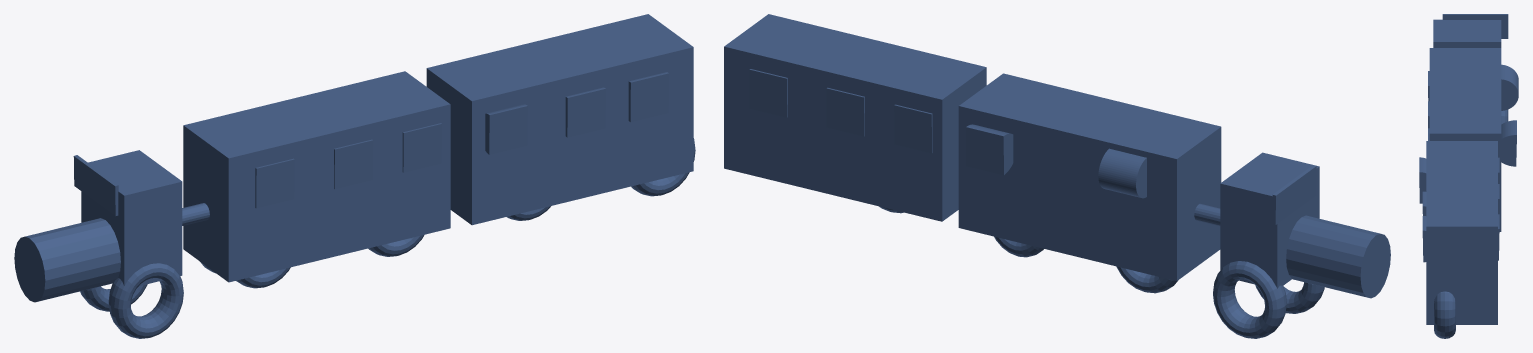
File: Powerful Jaiks.glb
3 views of the same model, side by side, from view 1: azimuth 30°, elevation 25°; view 2: azimuth 150°, elevation 25°; view 3: azimuth 270°, elevation 25° (orthographic). The views are drawn at different scales.
Visible parts, largest first — view 1: Mesh_Mesh_head_geo.001_lambert2SG.001; view 2: Mesh_Mesh_head_geo.001_lambert2SG.001; view 3: Mesh_Mesh_head_geo.001_lambert2SG.001.
Part boxes in pixels (<box>): Mesh_Mesh_head_geo.001_lambert2SG.001: <box>14,14,695,338</box>; Mesh_Mesh_head_geo.001_lambert2SG.001: <box>724,14,1390,338</box>; Mesh_Mesh_head_geo.001_lambert2SG.001: <box>1419,14,1518,338</box>.
Size of the model in its own units: 341 by 82.5 by 57.
